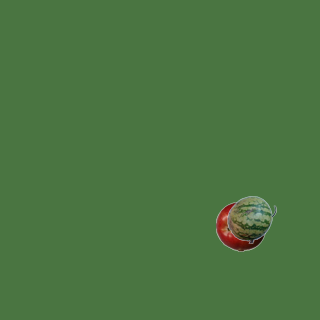Apple Braeburn: (215, 201, 265, 251)
Watermelon: (226, 194, 276, 244)
